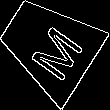M_NW: (17, 12, 81, 79)
